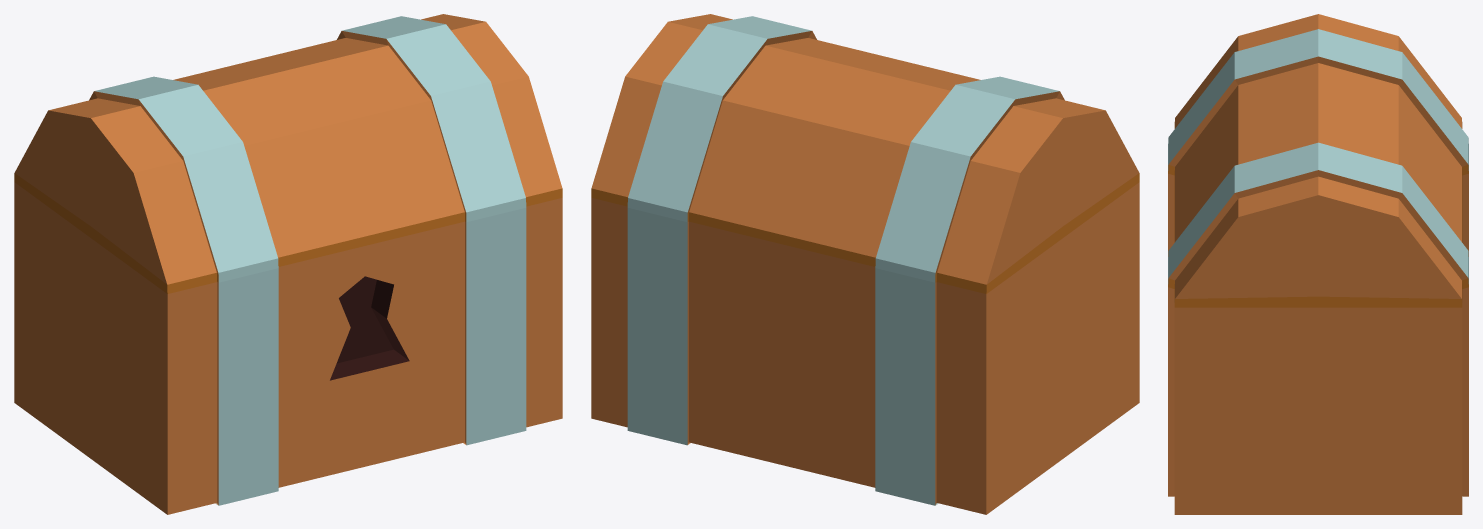
The model's file is Cofre_color.fbx.
The picture shows the model from 3 angles, left to right: view 1: azimuth 30°, elevation 25°; view 2: azimuth 150°, elevation 25°; view 3: azimuth 270°, elevation 25°; orthographic projection. The views are drawn at different scales.
Parts seen in each view (by area): view 1: Cube; view 2: Cube; view 3: Cube.
Part boxes in pixels (box(x1,y1,x2,y2)): Cube: box(14, 14, 562, 514); Cube: box(591, 14, 1139, 514); Cube: box(1168, 14, 1468, 514).
Bounding box in the file's own units: 14.46 × 12.17 × 10.16.
